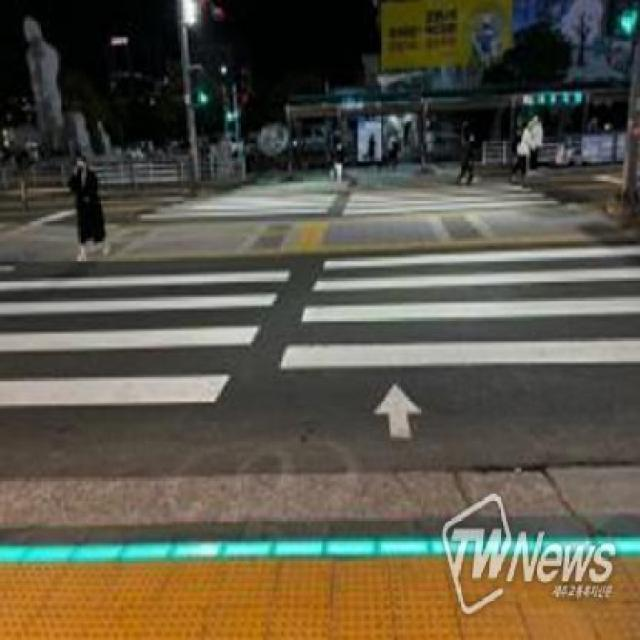crosswalk: (0, 252, 638, 490), (143, 188, 571, 219)
